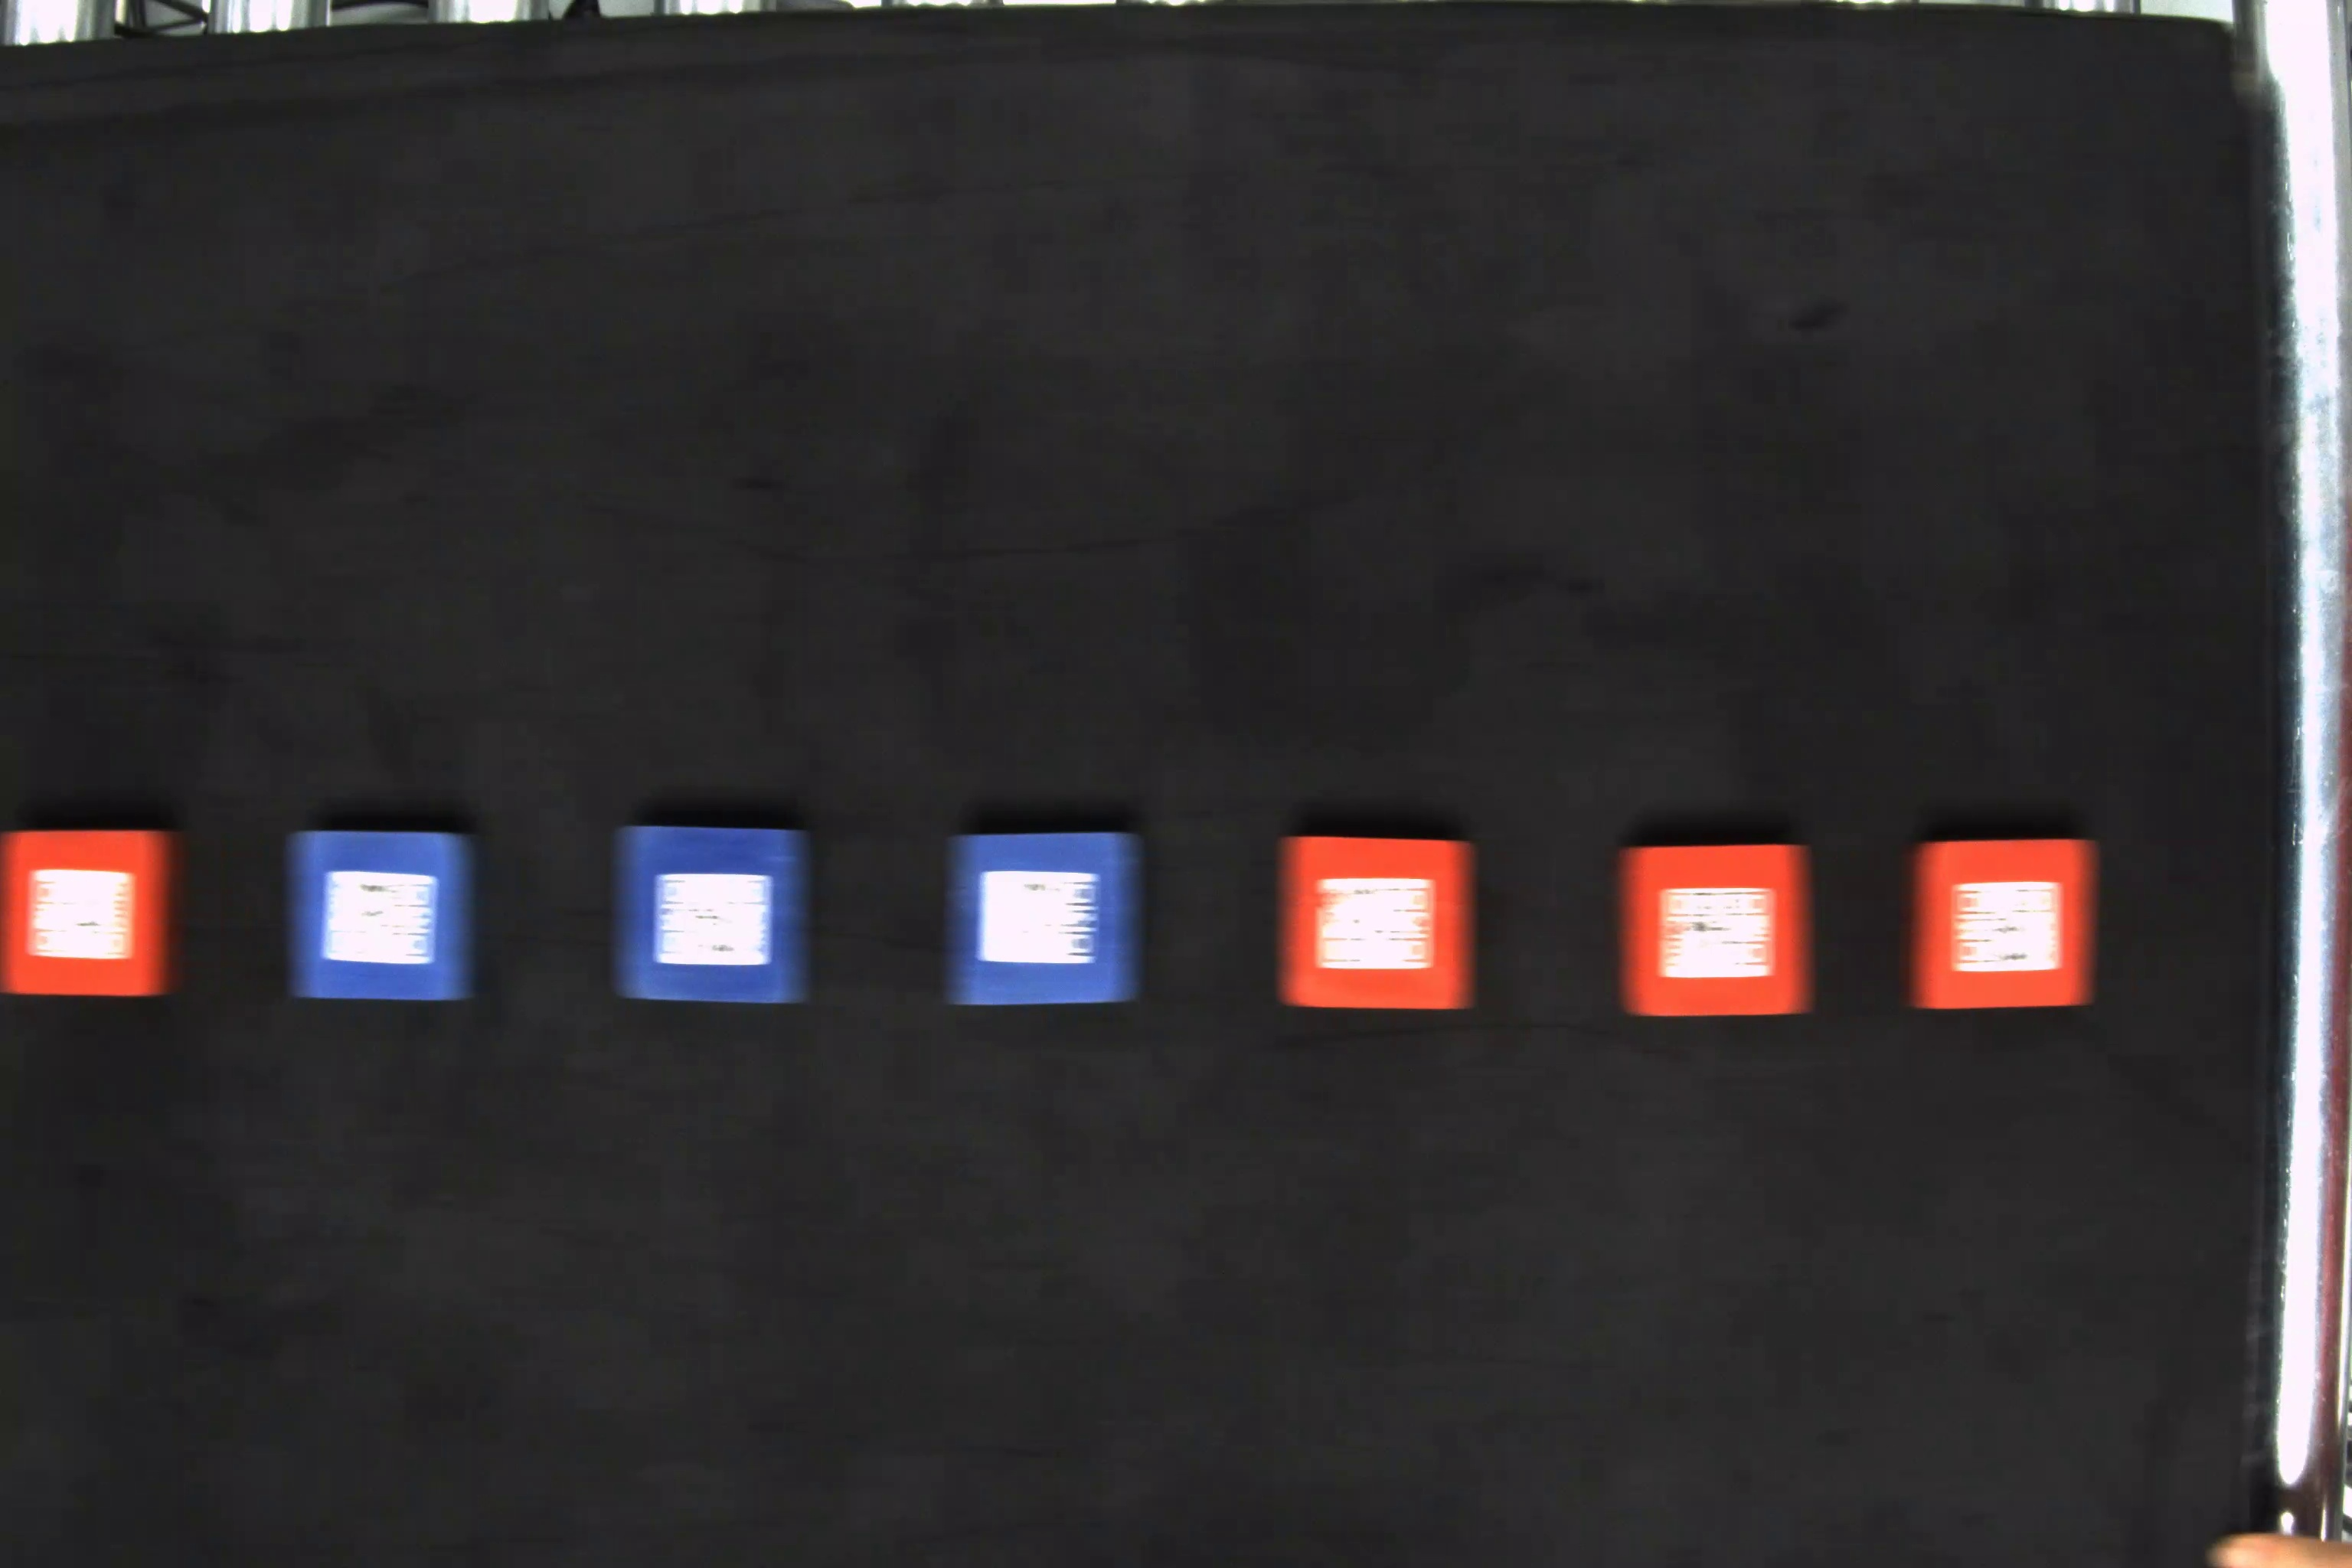wood: (1269, 833, 1487, 1024), (607, 822, 824, 1008), (945, 829, 1151, 1006), (1612, 847, 1815, 1018), (285, 826, 478, 1006), (1907, 835, 2100, 1011), (10, 831, 184, 994)
